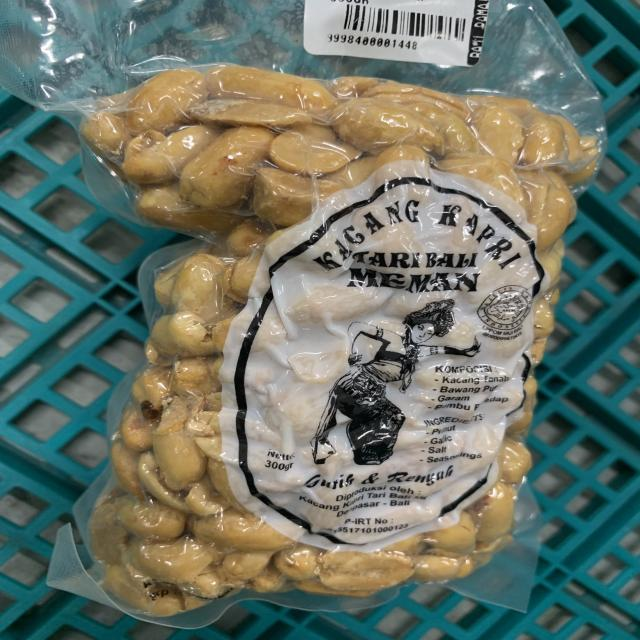object_name: (74, 11, 576, 596)
